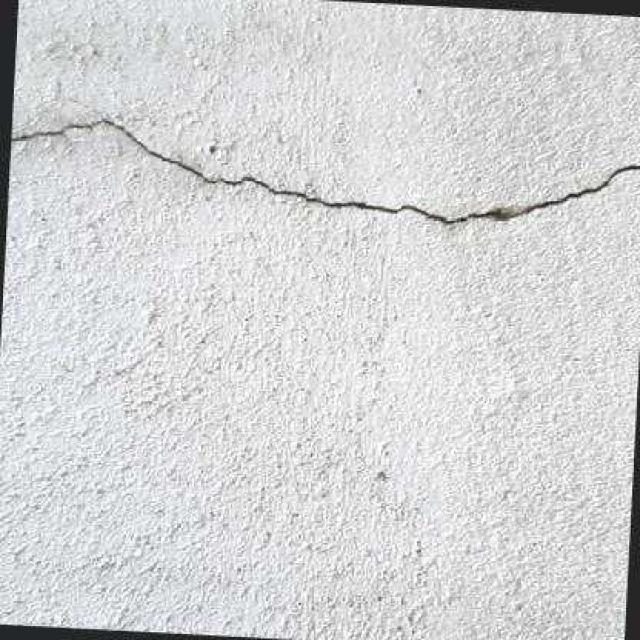D00: (10, 117, 640, 226)
